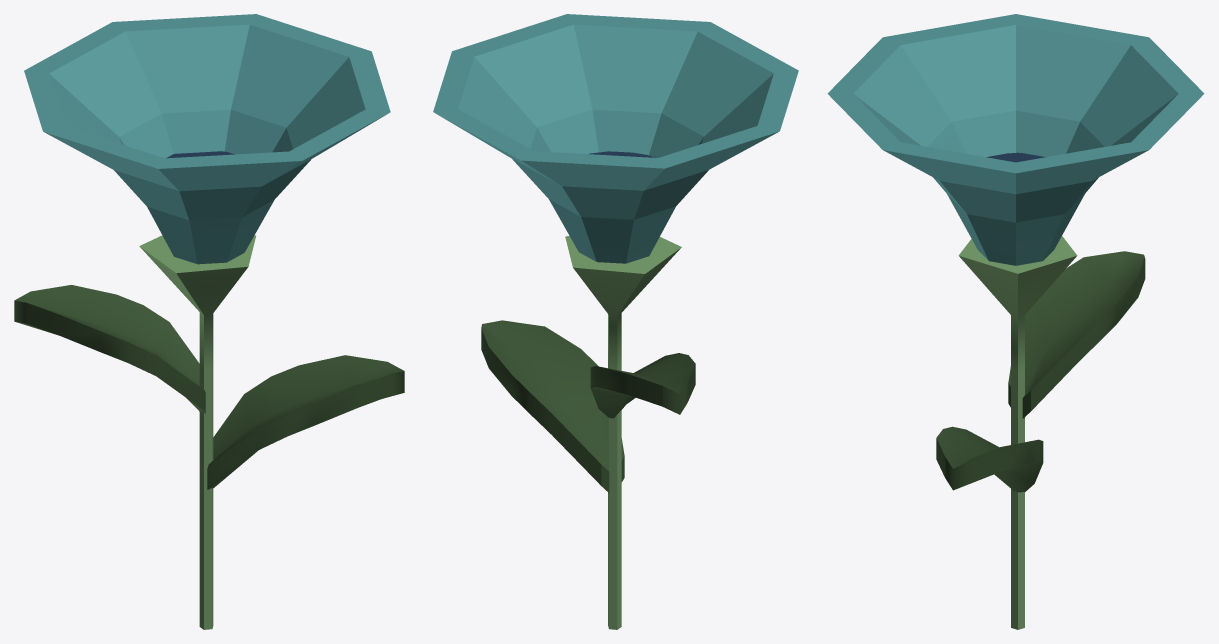
File: Flower_4.fbx
3 renders of one model, left to right at view 1: azimuth 30°, elevation 25°; view 2: azimuth 150°, elevation 25°; view 3: azimuth 270°, elevation 25°, orthographic.
Visible parts, largest first — view 1: pPipe16, pCube8, pCube9, pPipe15; view 2: pPipe16, pCube8, pPipe15, pCube9; view 3: pPipe16, pCube9, pPipe15, pCube8.
Boxes of the visible parts, x1=… form: pPipe16: x1=24, y1=14, x2=390, y2=264; pCube8: x1=207, y1=355, x2=404, y2=489; pCube9: x1=14, y1=285, x2=205, y2=413; pPipe15: x1=139, y1=235, x2=255, y2=629; pPipe16: x1=433, y1=14, x2=798, y2=263; pCube8: x1=481, y1=320, x2=624, y2=492; pPipe15: x1=565, y1=235, x2=681, y2=629; pCube9: x1=590, y1=353, x2=695, y2=418; pPipe16: x1=827, y1=14, x2=1204, y2=265; pCube9: x1=1008, y1=251, x2=1145, y2=418; pPipe15: x1=958, y1=236, x2=1077, y2=629; pCube8: x1=936, y1=426, x2=1043, y2=492.
Bounding box in the file's own units: 64.63 × 100 × 64.36.
